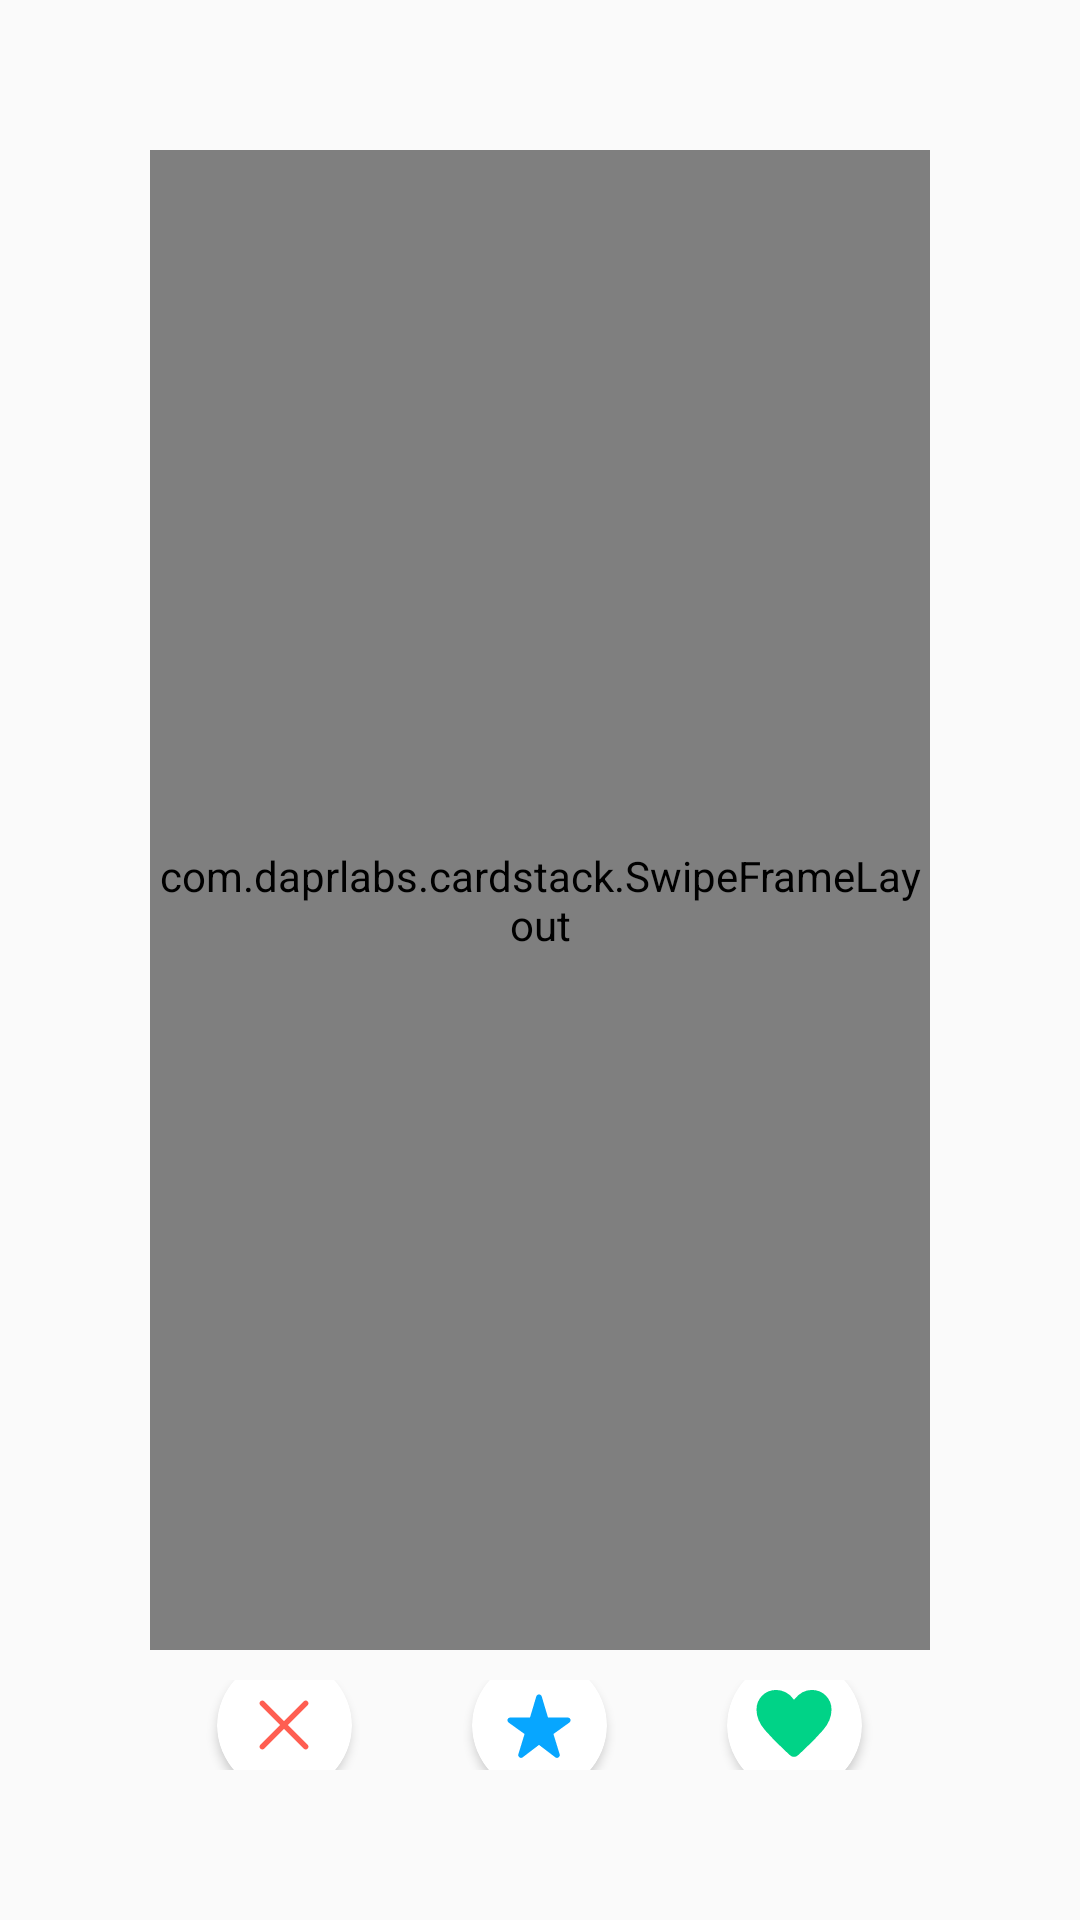

Locate icon controls on the screen. Image size 1080×1920, boxes as (x1, y1, x2, y2).
close: (259, 1700, 309, 1750)
favorite: (756, 1690, 832, 1757)
star: (507, 1694, 571, 1758)
